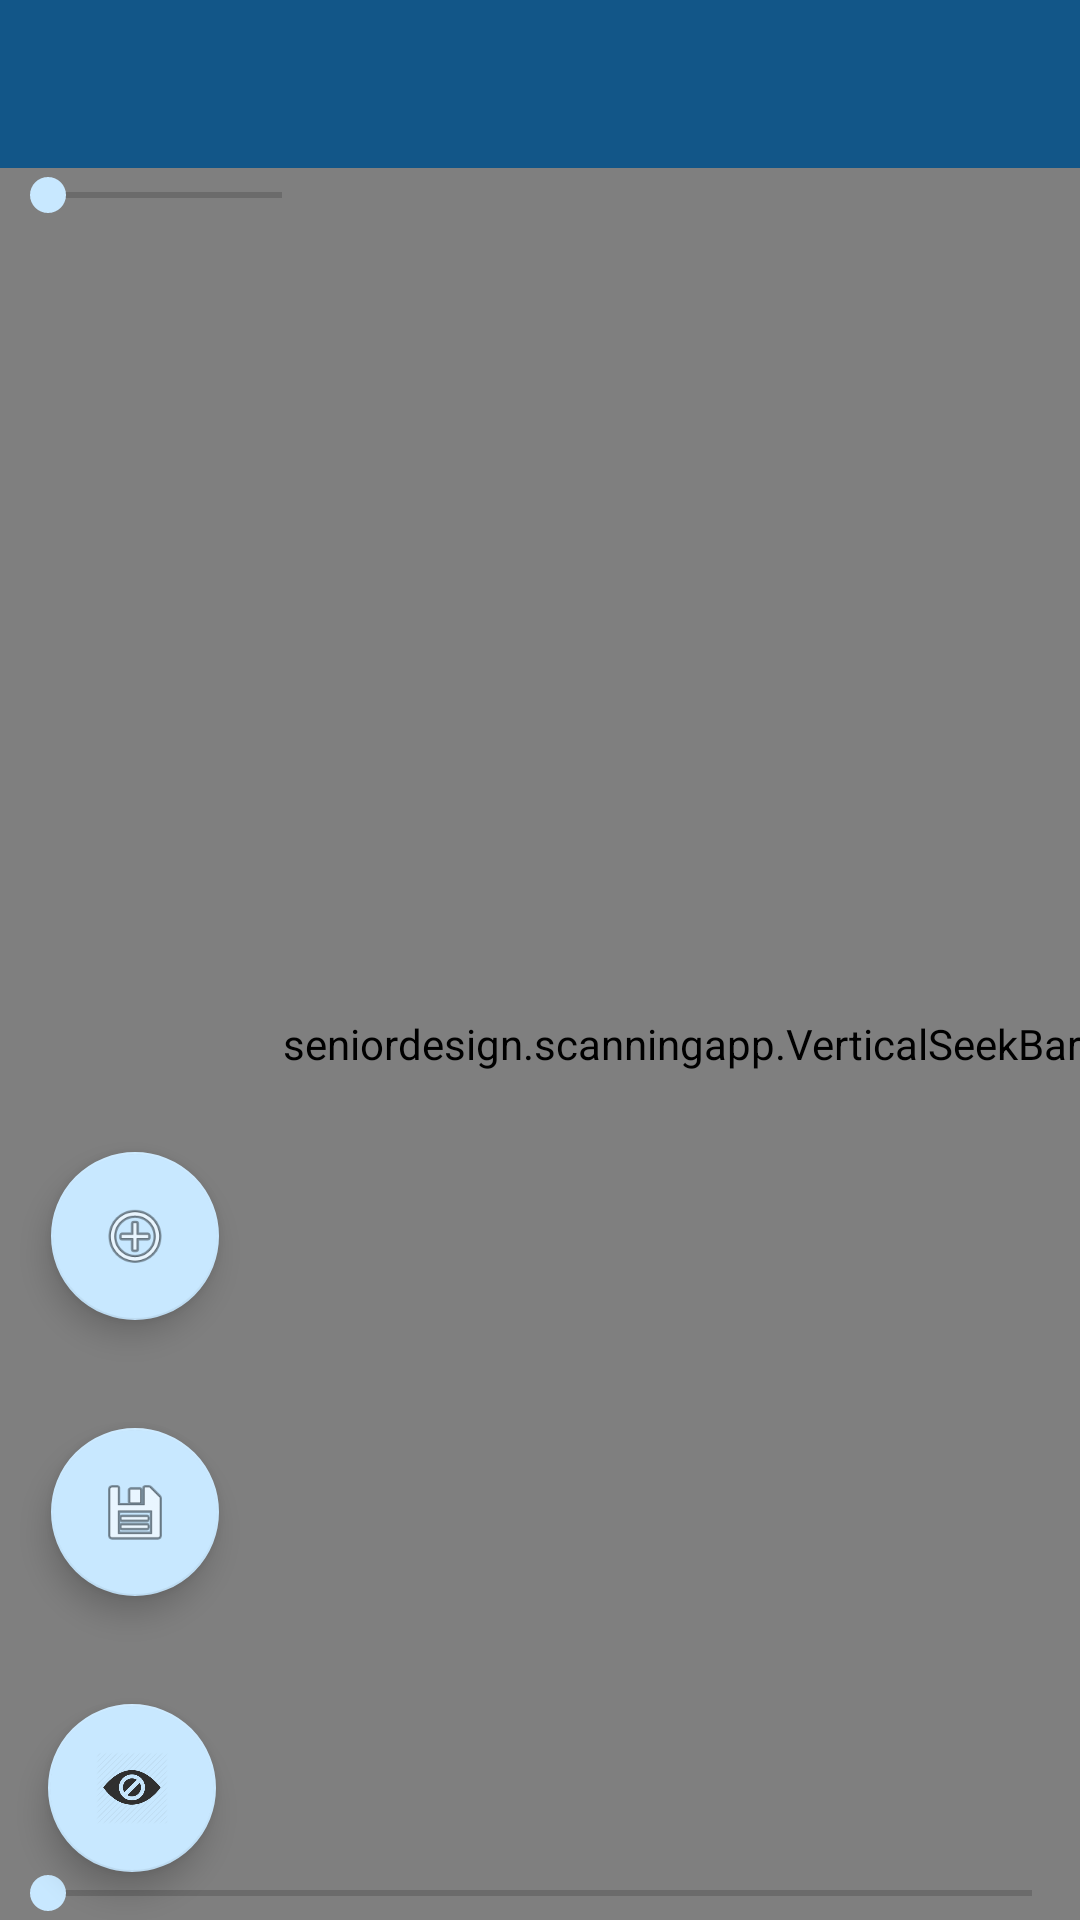

Icons on this 1080 × 1920 Android screen, each with the point to tap as (x,y):
add: (135,1236)
save: (135,1512)
